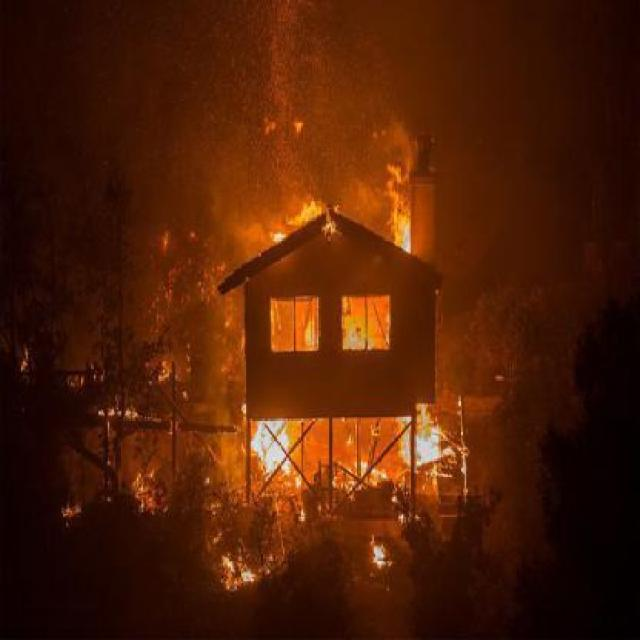Fire: (270, 156, 416, 352), (392, 410, 468, 468), (250, 408, 302, 483), (222, 550, 255, 596), (370, 543, 390, 574)
